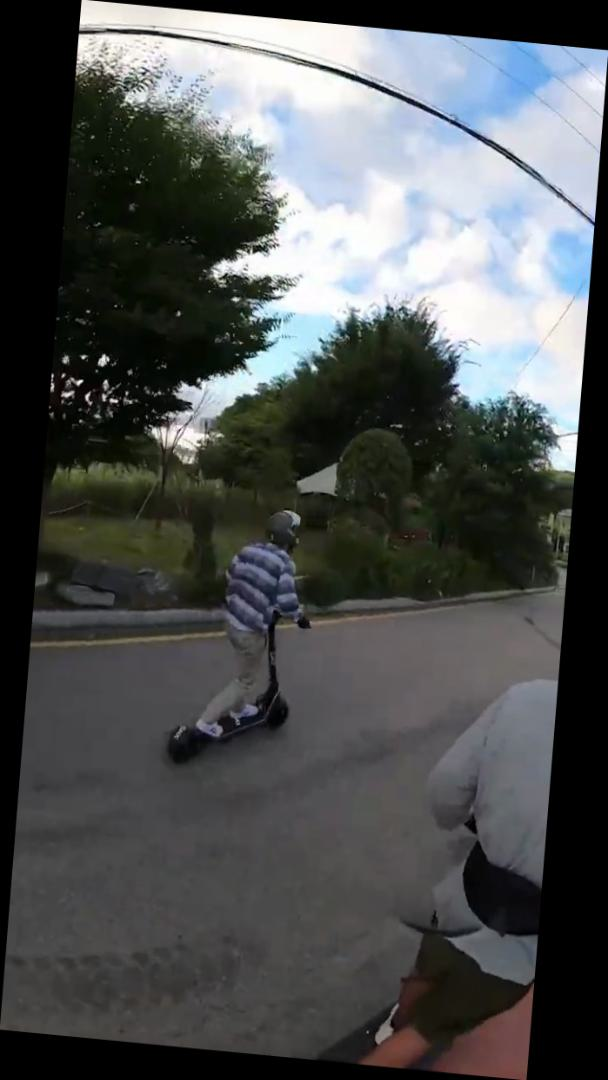helmet: (162, 496, 327, 782)
